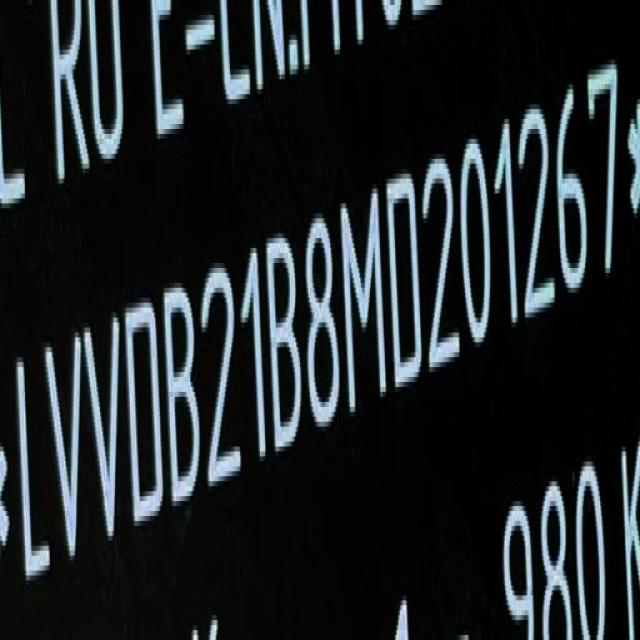0: (458, 132, 491, 351)
1: (488, 126, 522, 331), (240, 246, 267, 469)
2: (204, 271, 242, 493), (518, 98, 555, 322), (424, 156, 462, 373)
6: (556, 71, 592, 302)
7: (594, 56, 621, 292)
8: (304, 211, 341, 433)
B: (164, 281, 204, 509), (269, 237, 302, 456)
D: (124, 298, 162, 529), (388, 169, 426, 388)
L: (14, 347, 49, 584)
M: (342, 183, 391, 410)
V: (44, 328, 83, 574), (86, 310, 125, 552)
